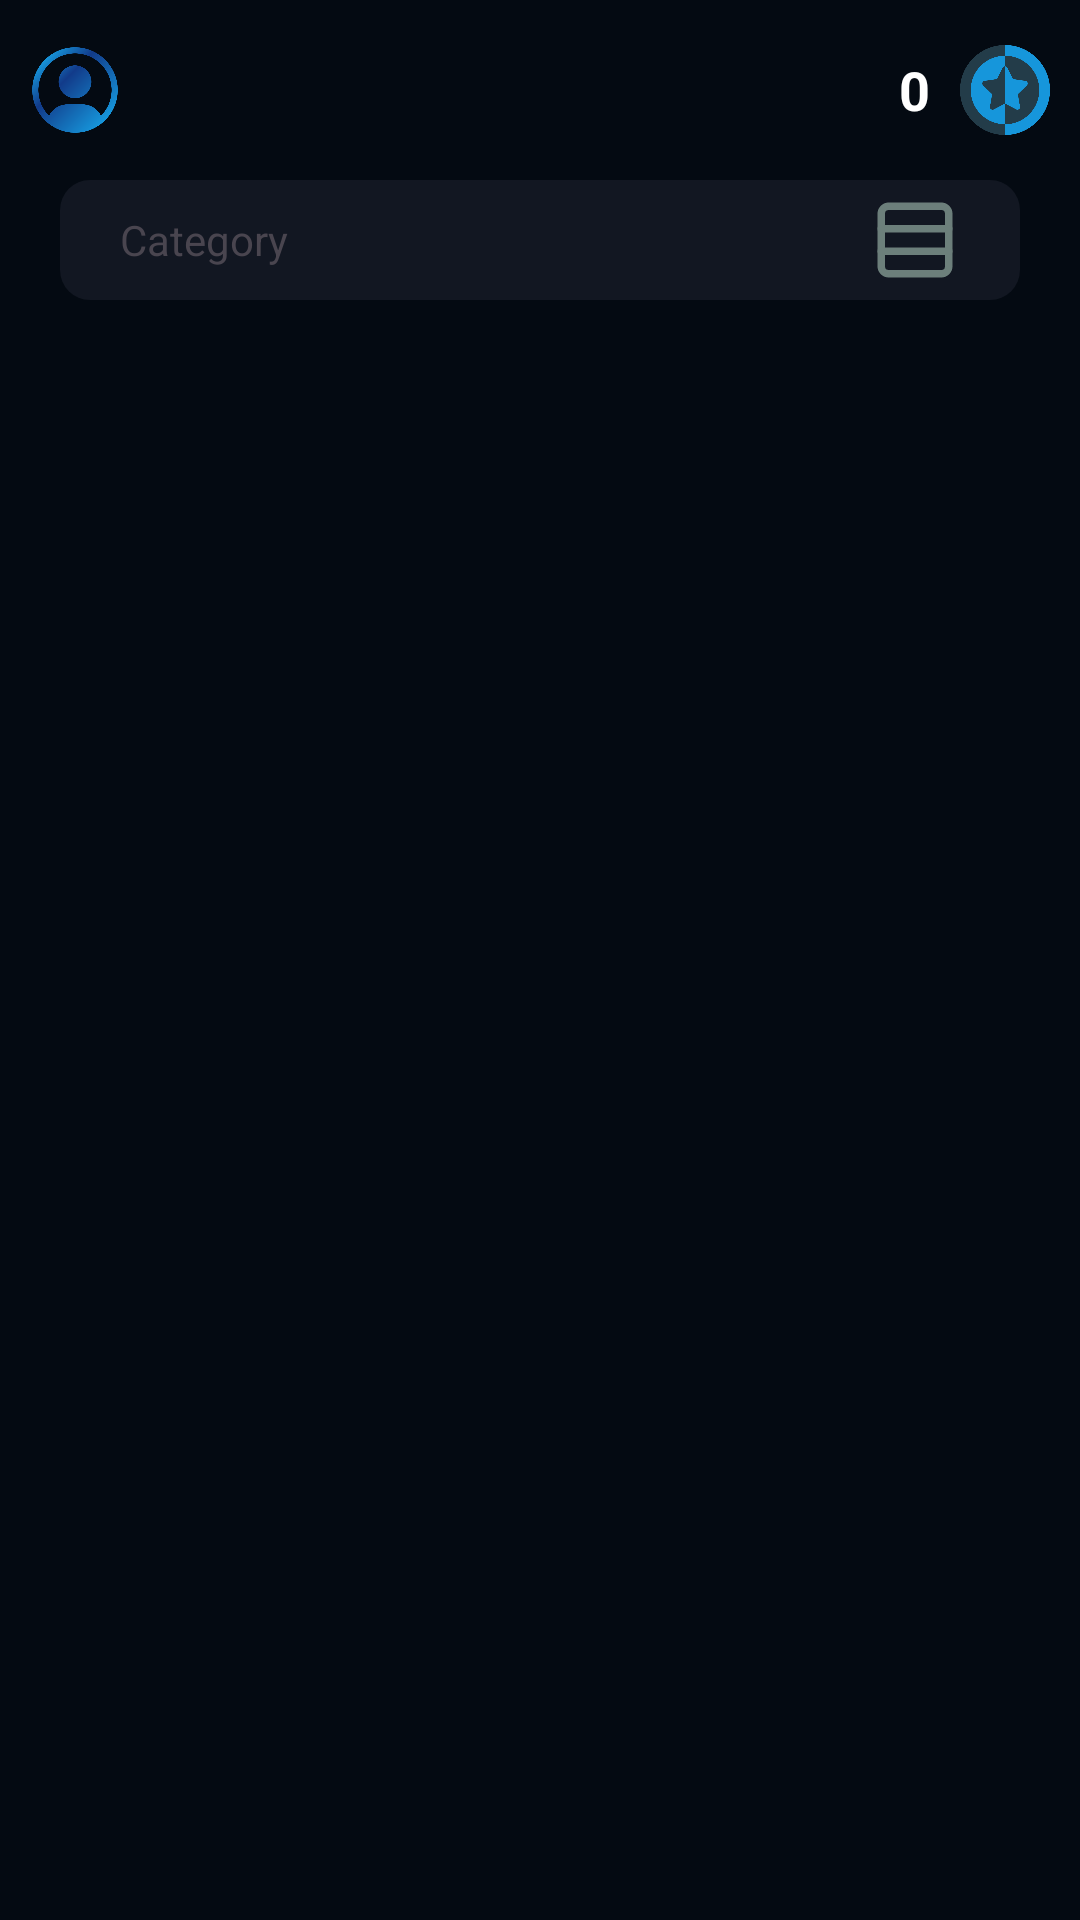

Named icons in this screenshot (1080 × 1920) and their centers, (x,y):
coin: (1005,90)
linear: (915,240)
user: (75,90)
